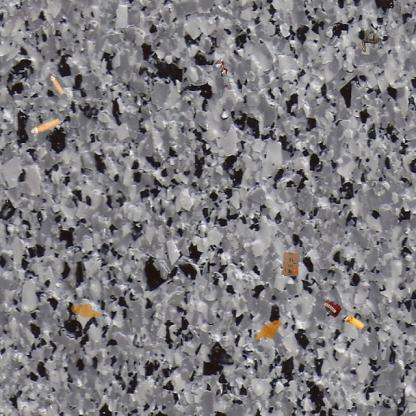dirty: (28, 116, 62, 136), (357, 28, 382, 54), (320, 297, 344, 320), (214, 58, 231, 87), (341, 313, 366, 332), (282, 251, 300, 276), (48, 74, 66, 96)
liquid: (255, 319, 282, 341), (71, 302, 101, 319)
